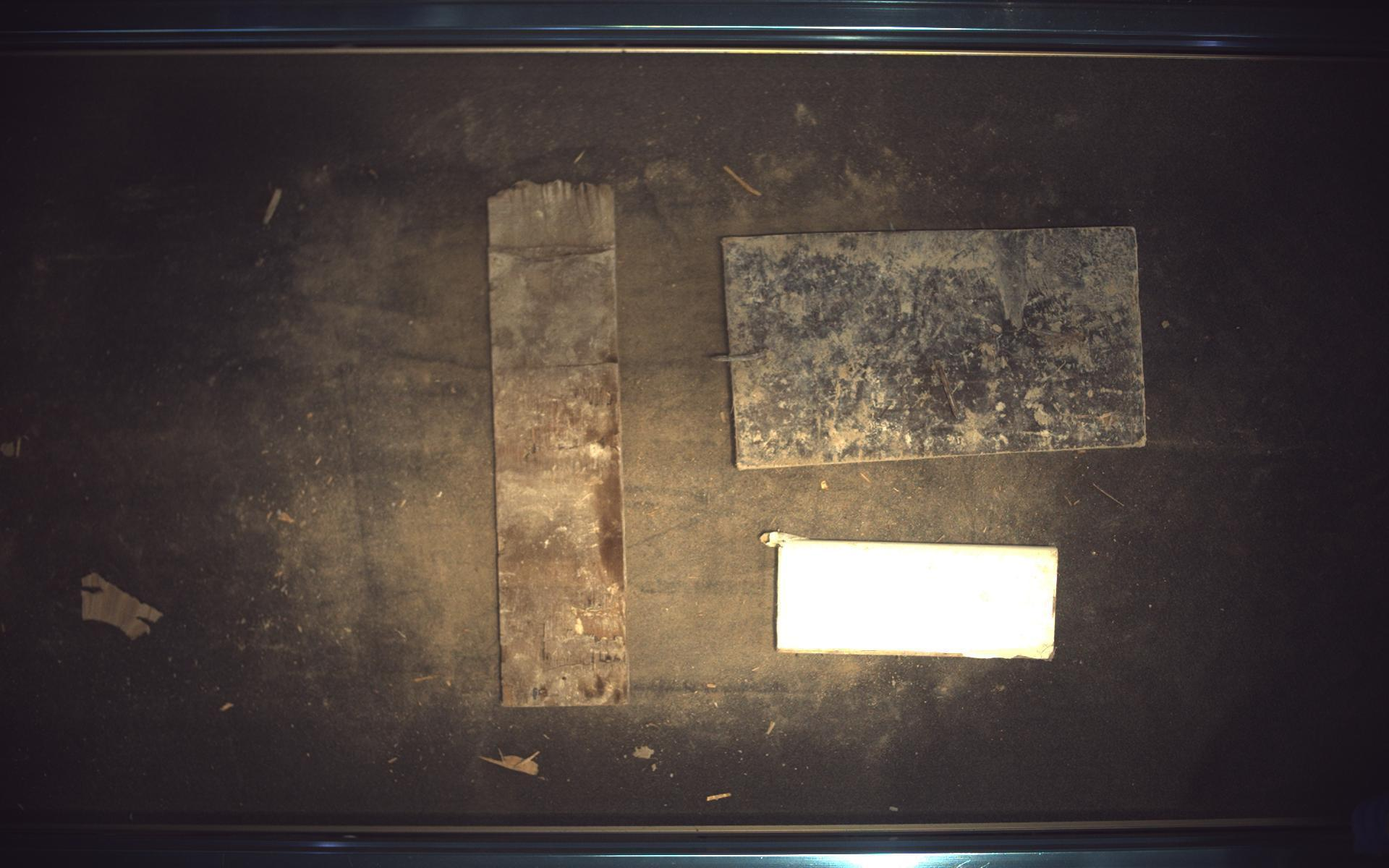wood: (723, 226, 1148, 469), (488, 180, 629, 707), (763, 532, 1061, 660)
